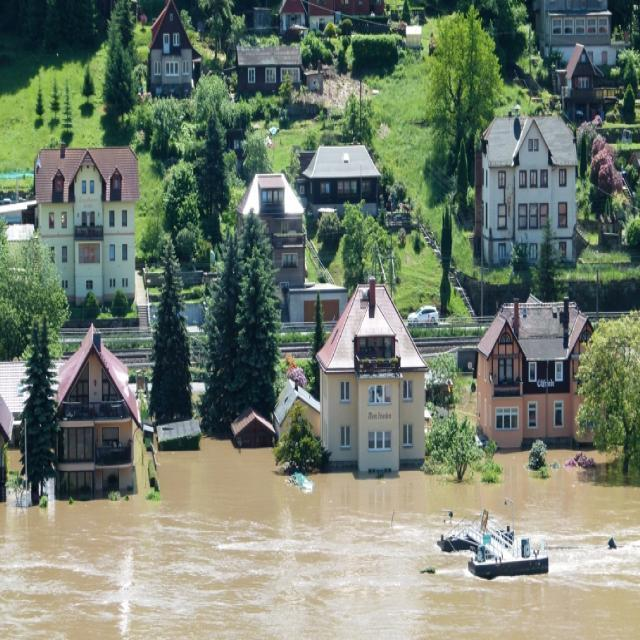flood: (0, 440, 640, 640)
house: (322, 276, 428, 476), (38, 146, 144, 308), (480, 294, 590, 449), (52, 322, 139, 504), (487, 108, 580, 265), (237, 171, 306, 289), (300, 142, 382, 210), (148, 0, 194, 97), (236, 39, 302, 100), (536, 2, 614, 52), (557, 44, 600, 111), (276, 378, 321, 437), (286, 281, 342, 322), (230, 408, 275, 447), (240, 4, 280, 36), (276, 0, 310, 29)
